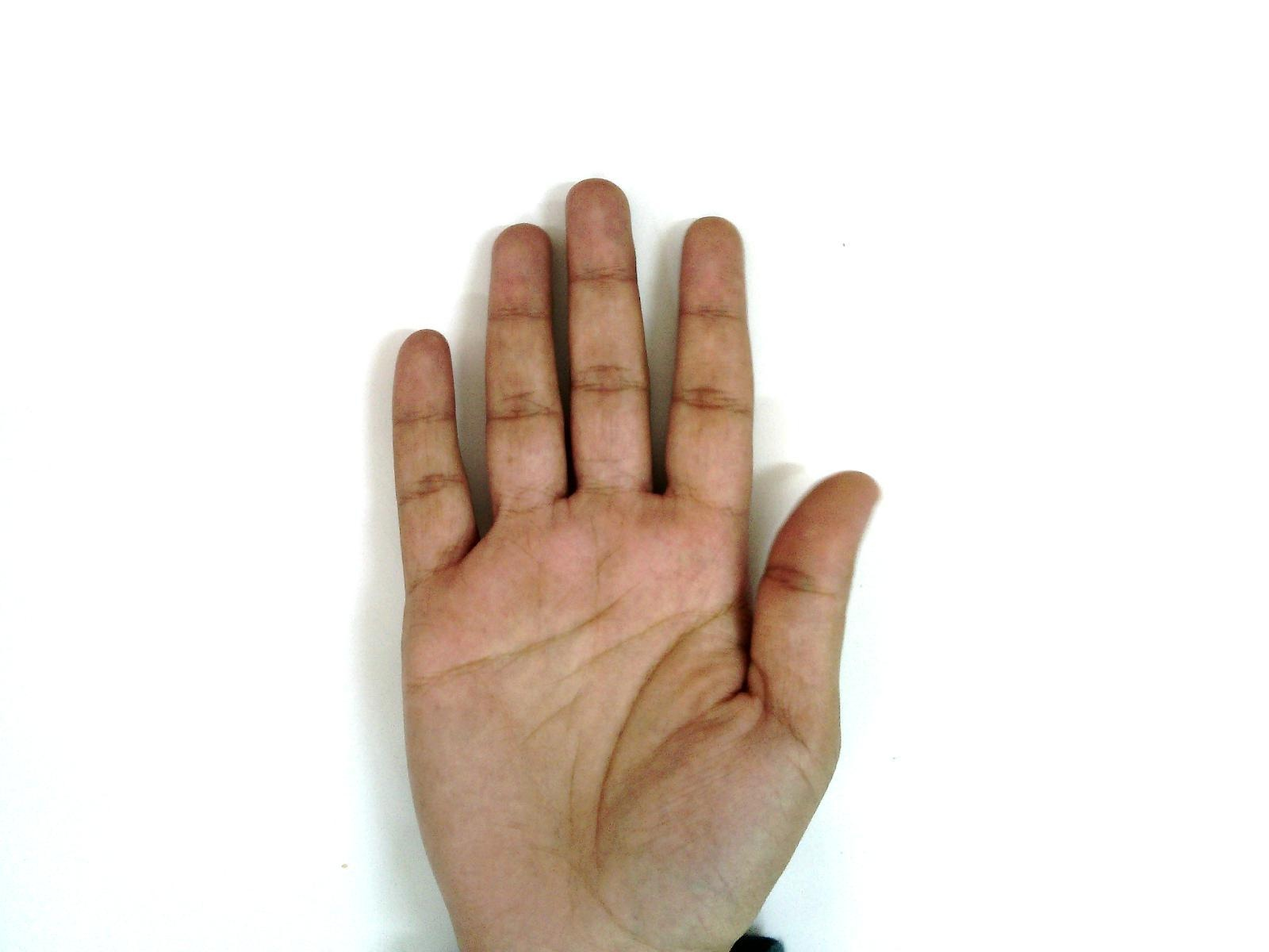open_palm: (387, 178, 884, 951)
